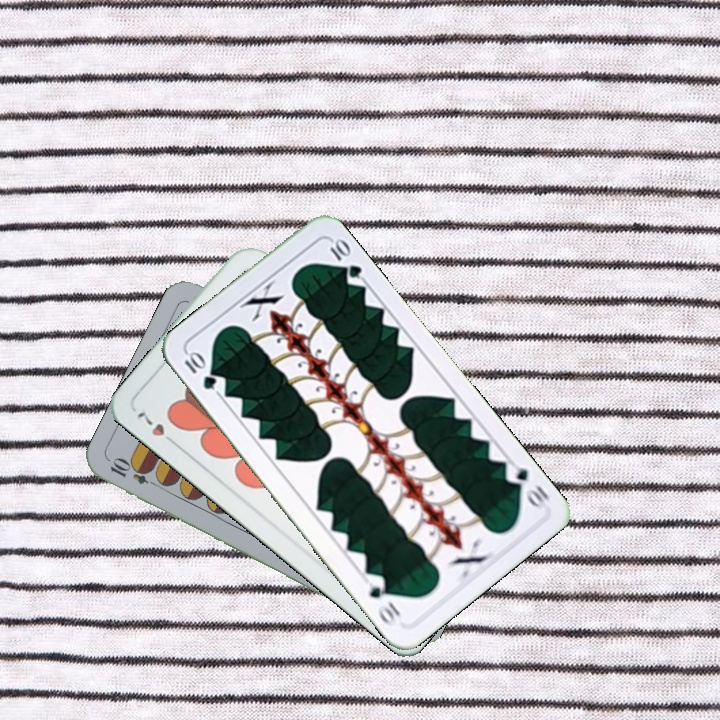E10: (106, 455, 163, 490)
G10: (500, 458, 553, 511), (180, 347, 219, 393)
H7: (132, 408, 181, 449)
